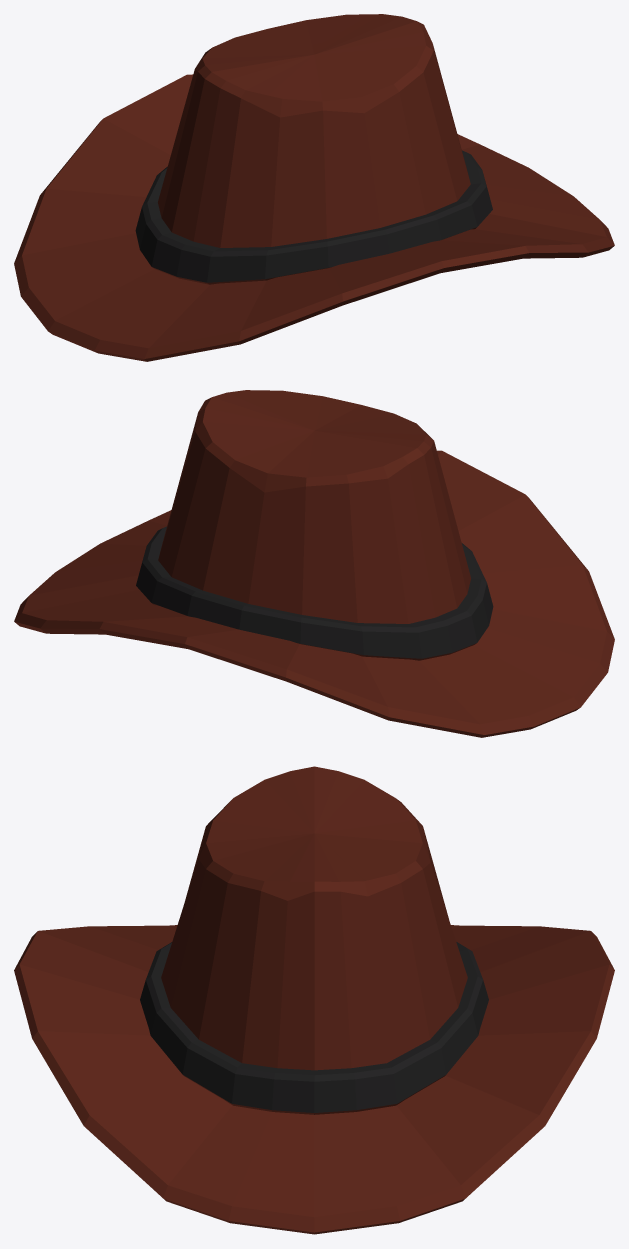
File: Hat A-col.glb
3 renders of one model, top to bottom at view 1: azimuth 30°, elevation 25°; view 2: azimuth 150°, elevation 25°; view 3: azimuth 270°, elevation 25°, orthographic. The views are drawn at different scales.
Parts seen in each view (by area): view 1: Hat A-col; view 2: Hat A-col; view 3: Hat A-col.
Boxes of the visible parts, x1,y1,x2,y2 form: Hat A-col: (14, 14, 614, 361); Hat A-col: (14, 390, 614, 737); Hat A-col: (14, 766, 614, 1234).
Bounding box in the file's own units: 0.5418 × 0.2201 × 0.4567.
